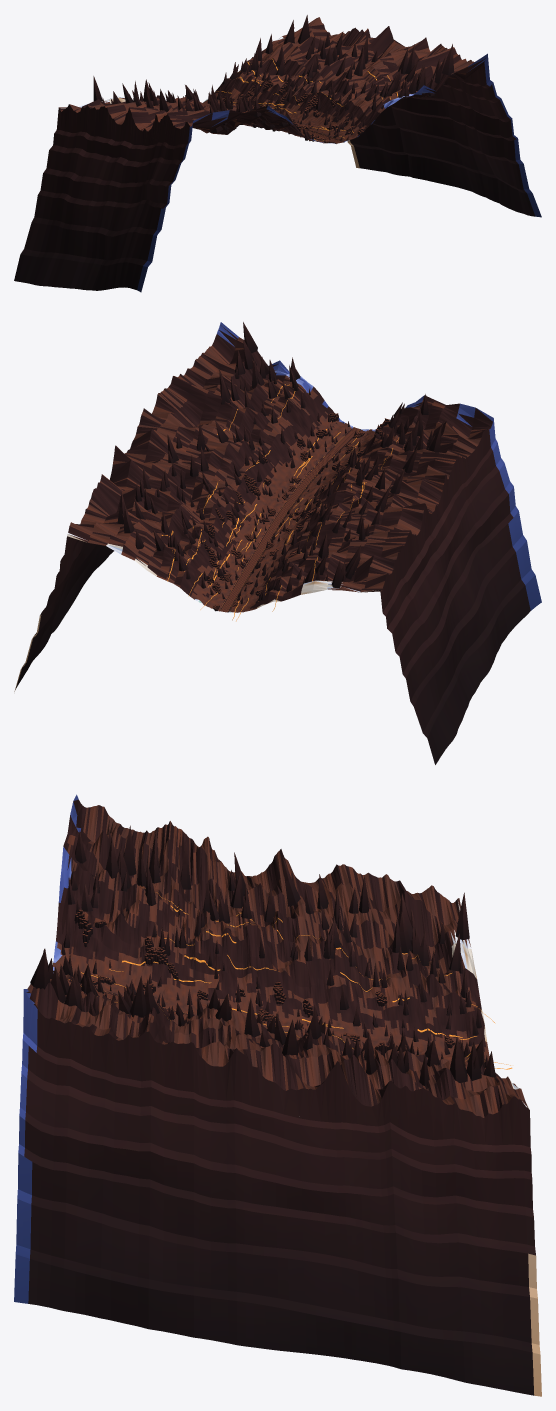
3 views of the same model, one above another, from view 1: azimuth 30°, elevation 25°; view 2: azimuth 150°, elevation 25°; view 3: azimuth 270°, elevation 25° (orthographic). The views are drawn at different scales.
Visible parts, largest first — view 1: S06_Terrain_L_6830, S06_Terrain_L_7275, S06_Terrain_R_6385, S06_Terrain_R_5940, S06_Spires_01, S06_Terrain_L_6385, S06_Terrain_R_7275, S06_Terrain_L_5940, S06_Terrain_R_6830, S06_Basalt_02, S06_Basalt_01; view 2: S06_Spires_01, S06_Terrain_R_5940, S06_Terrain_R_7275, S06_Terrain_R_6385, S06_Terrain_L_6830, S06_Terrain_R_6830, S06_Terrain_L_5940, S06_Terrain_L_6385, S06_Terrain_L_7275, S06_Basalt_01, S06_Lava_01, S06_Basalt_02; view 3: S06_Terrain_L_6830, S06_Terrain_L_7275, S06_Terrain_L_6385, S06_Terrain_L_5940, S06_Spires_01, S06_Terrain_R_7275, S06_Terrain_R_5940, S06_Terrain_R_6385, S06_Terrain_R_6830, S06_Basalt_02, S06_Basalt_01, S06_Lava_01.
Part boxes in pixels (bbox=[...]): S06_Terrain_L_6830: bbox=[289, 37, 499, 202]; S06_Terrain_L_7275: bbox=[315, 47, 541, 217]; S06_Terrain_R_6385: bbox=[58, 97, 253, 290]; S06_Terrain_R_5940: bbox=[14, 95, 166, 287]; S06_Spires_01: bbox=[93, 15, 454, 141]; S06_Terrain_L_6385: bbox=[251, 26, 445, 184]; S06_Terrain_R_7275: bbox=[120, 105, 334, 292]; S06_Terrain_L_5940: bbox=[203, 17, 397, 174]; S06_Terrain_R_6830: bbox=[96, 101, 303, 290]; S06_Basalt_02: bbox=[254, 92, 365, 142]; S06_Basalt_01: bbox=[222, 80, 307, 127]; S06_Spires_01: bbox=[117, 322, 443, 604]; S06_Terrain_R_5940: bbox=[228, 535, 462, 764]; S06_Terrain_R_7275: bbox=[321, 395, 541, 639]; S06_Terrain_R_6385: bbox=[258, 491, 486, 717]; S06_Terrain_L_6830: bbox=[77, 379, 310, 595]; S06_Terrain_R_6830: bbox=[284, 450, 504, 674]; S06_Terrain_L_5940: bbox=[14, 489, 246, 691]; S06_Terrain_L_6385: bbox=[45, 445, 275, 645]; S06_Terrain_L_7275: bbox=[172, 322, 353, 470]; S06_Basalt_01: bbox=[204, 490, 315, 611]; S06_Lava_01: bbox=[161, 384, 398, 621]; S06_Basalt_02: bbox=[244, 413, 390, 503]; S06_Terrain_L_6830: bbox=[148, 1003, 306, 1353]; S06_Terrain_L_7275: bbox=[14, 971, 158, 1328]; S06_Terrain_L_6385: bbox=[285, 1029, 430, 1373]; S06_Terrain_L_5940: bbox=[395, 1045, 541, 1396]; S06_Spires_01: bbox=[30, 825, 495, 1085]; S06_Terrain_R_7275: bbox=[52, 794, 171, 1006]; S06_Terrain_R_5940: bbox=[349, 866, 489, 1062]; S06_Terrain_R_6385: bbox=[248, 849, 379, 1047]; S06_Terrain_R_6830: bbox=[162, 822, 267, 1028]; S06_Basalt_02: bbox=[59, 909, 245, 1000]; S06_Basalt_01: bbox=[257, 981, 454, 1054]; S06_Lava_01: bbox=[69, 887, 512, 1069].
Bounding box in the file's own units: 2739 × 1704 × 2031.
1 material, 1 textured.
